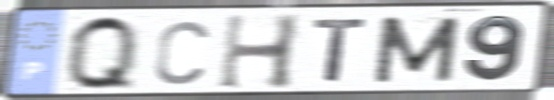9: (460, 12, 528, 85)
C: (151, 18, 212, 87)
H: (215, 12, 305, 92)
M: (369, 14, 464, 85)
Q: (65, 12, 140, 93)
T: (310, 16, 372, 84)
